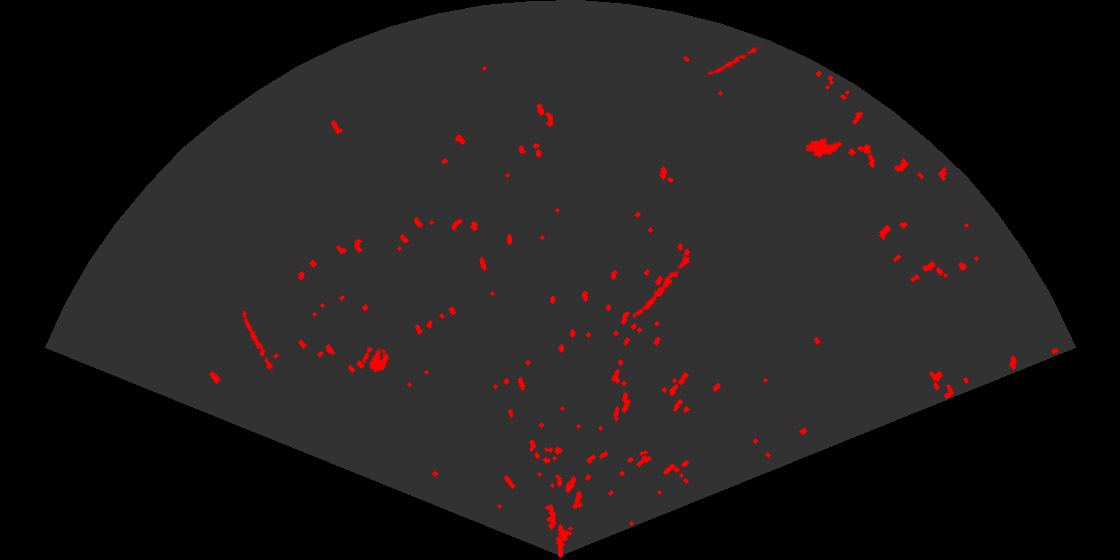AUV: (803, 136, 844, 159)
ball: (361, 345, 391, 374)
chain: (634, 250, 697, 317), (239, 307, 277, 375), (704, 42, 762, 78)
